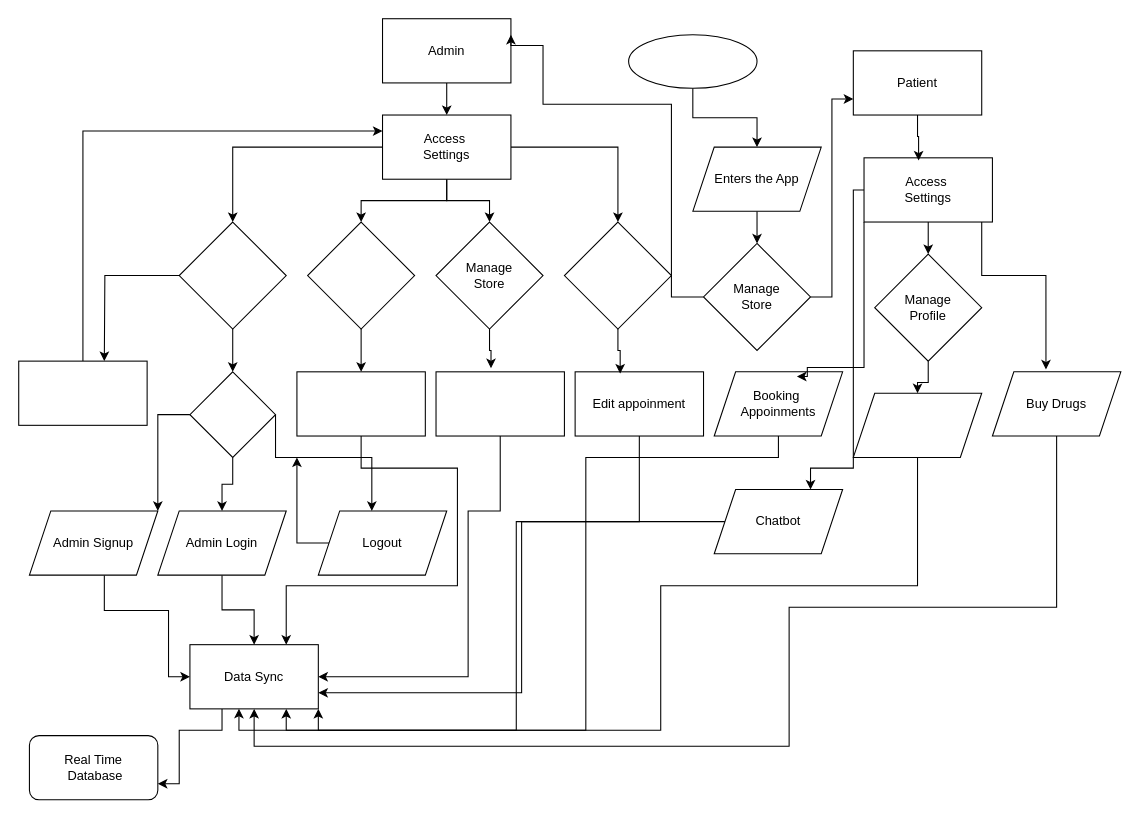
The diagram is 1140 pixels wide and 819 high, and some of its shapes have lost their labels. The shapes that lost their labels are listed below. From the top down, each one's centre as x and y in pixels, then its label:
the point at 692,61: Start
the point at 232,275: Manage User &Doctor
the point at 361,275: Manage Order
the point at 617,275: Manage Appointment
the point at 82,392: Edit users & Doctors profile
the point at 360,403: Edit Order
the point at 499,403: Edit Store
the point at 232,414: Select Auth
the point at 917,424: Edit profile
